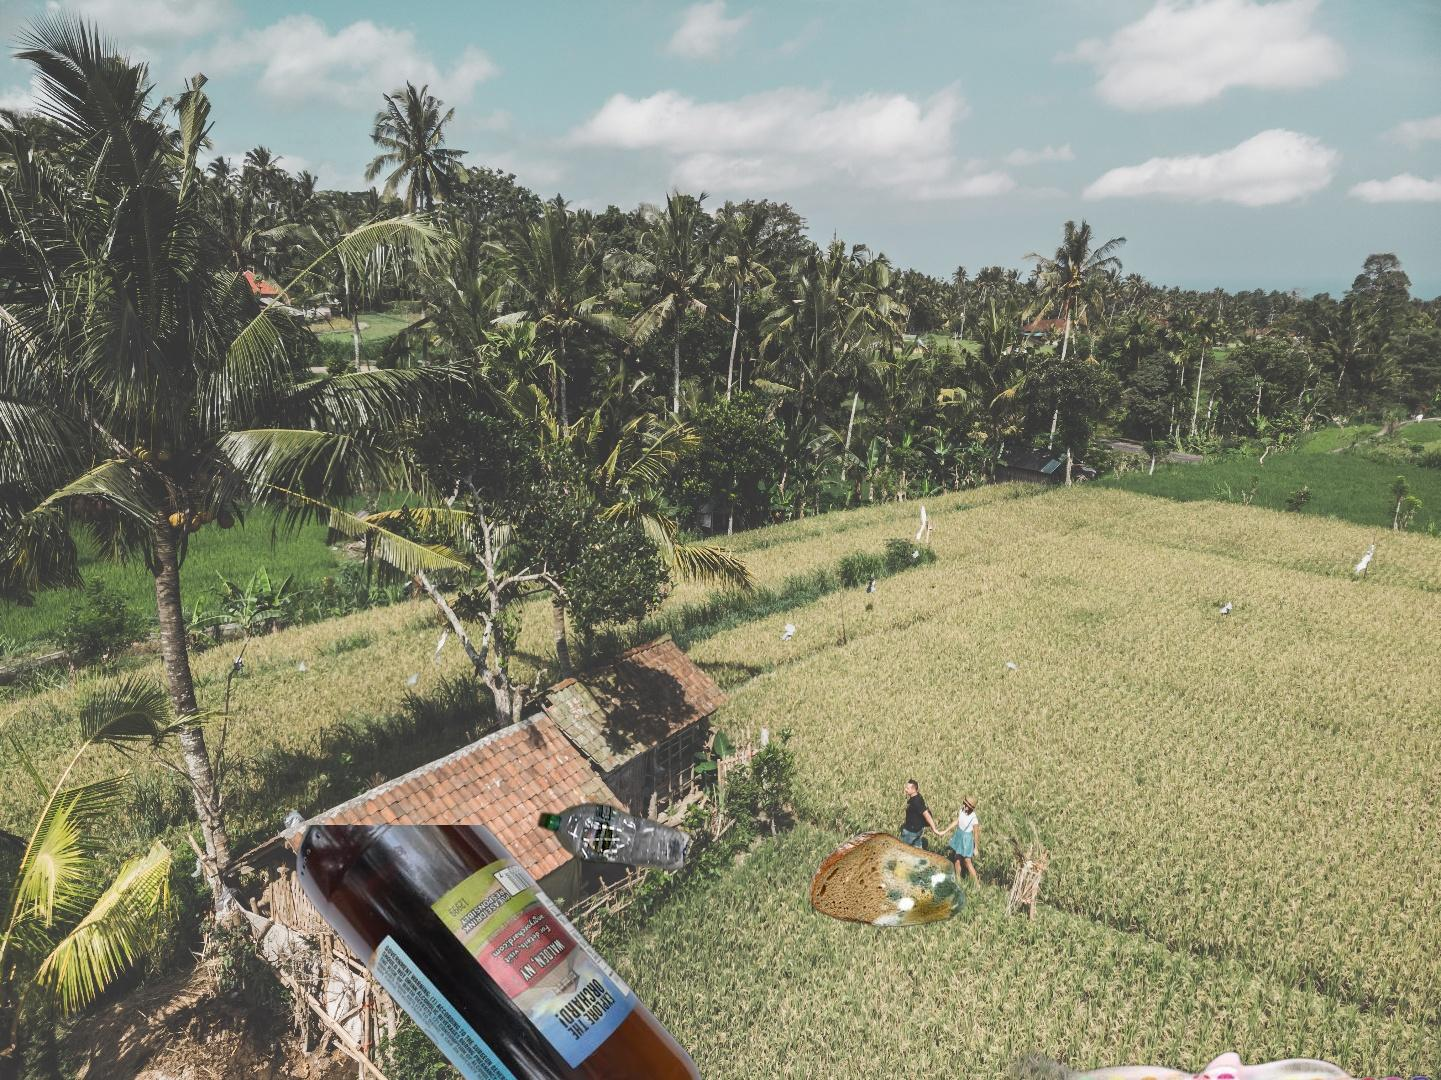biological: (806, 828, 969, 930)
glass: (290, 825, 765, 1080)
penholder: (859, 1040, 1441, 1080)
plastic-bottles: (533, 801, 696, 874)
